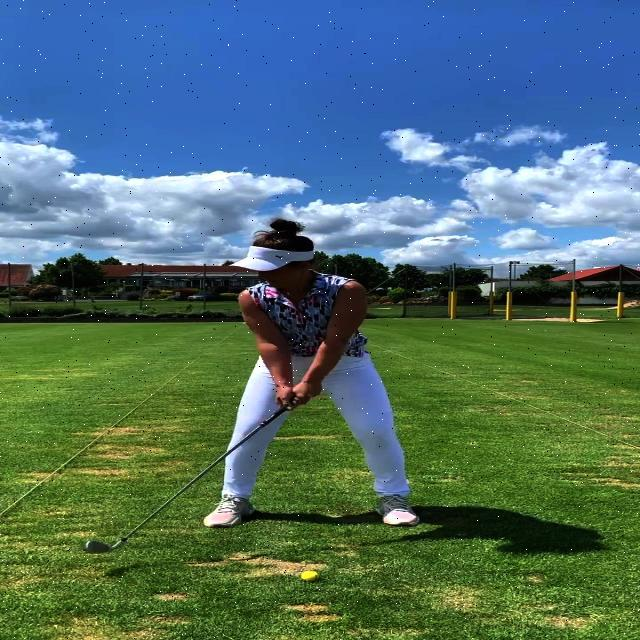golf ball: (300, 570, 321, 581)
golf club-handle: (80, 392, 305, 556)
golf club-head: (84, 540, 110, 555)
